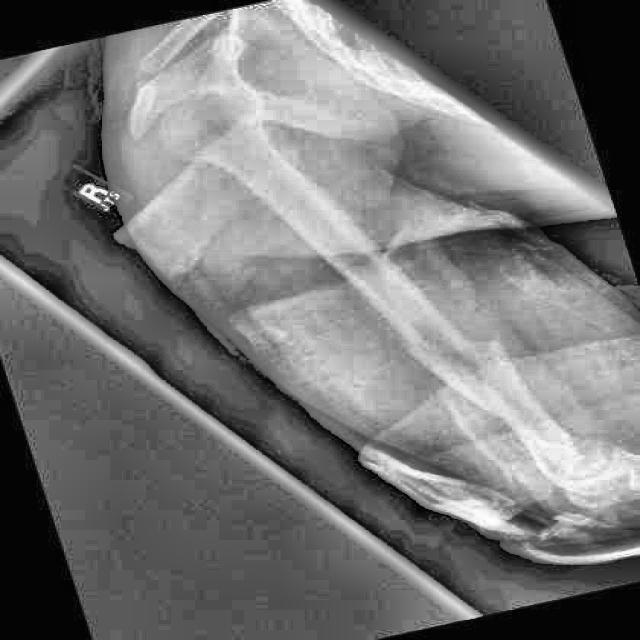humerus: (350, 262, 587, 468)
